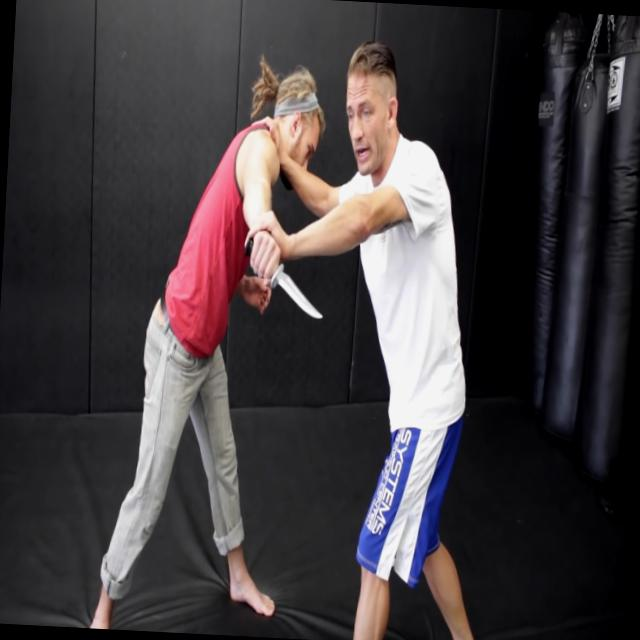knife: (238, 227, 332, 332)
